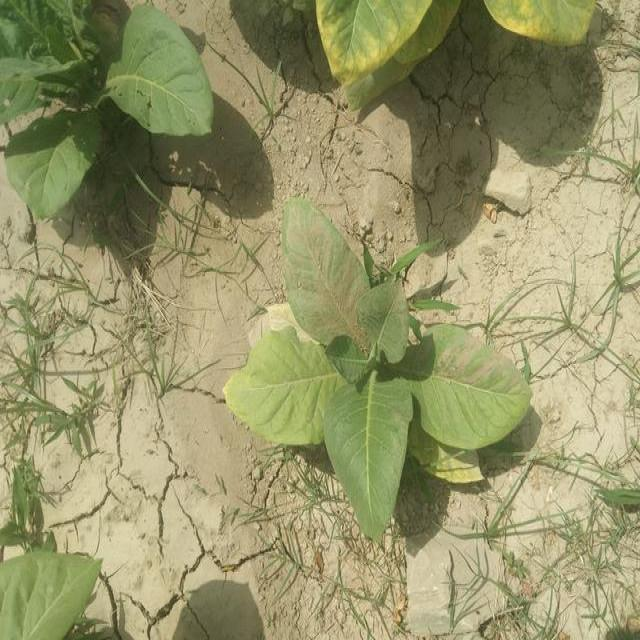crop: (242, 218, 508, 543), (1, 4, 212, 205), (318, 0, 622, 39)
